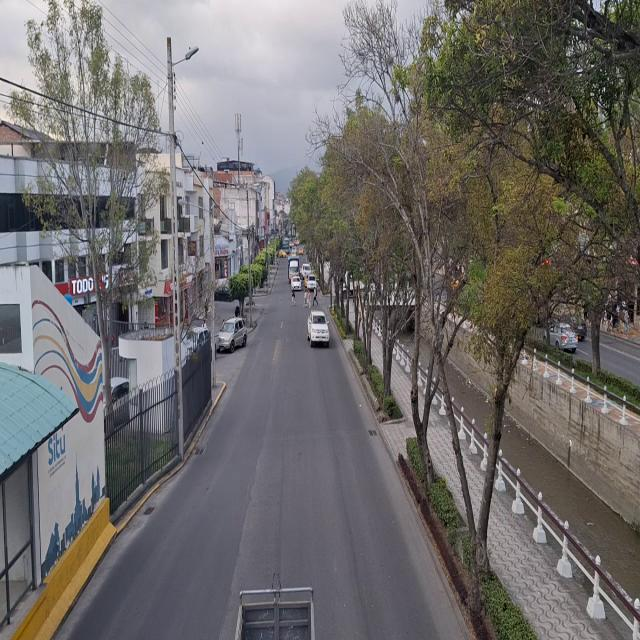CMT: (306, 310, 330, 345)
SUV: (219, 318, 245, 352), (307, 275, 316, 290)
